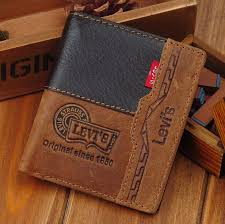monedero: (18, 12, 207, 216)
